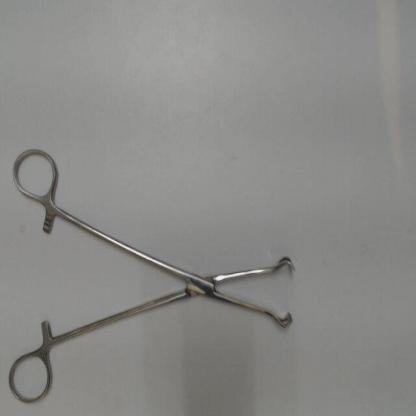8 Babcock Tissue Forceps: (5, 138, 302, 408)
